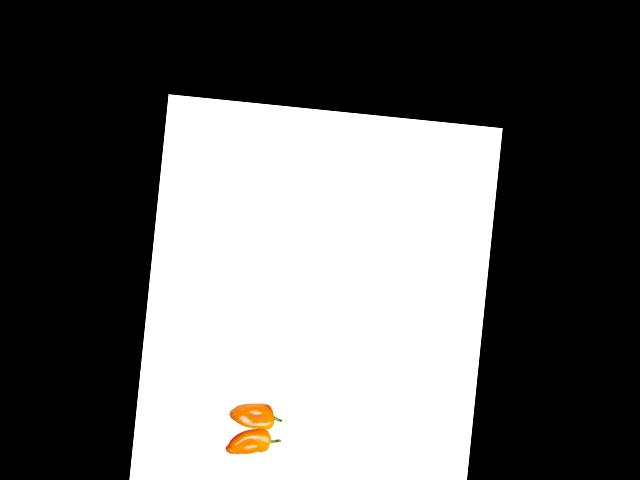bell_pepper: (217, 393, 285, 432)
